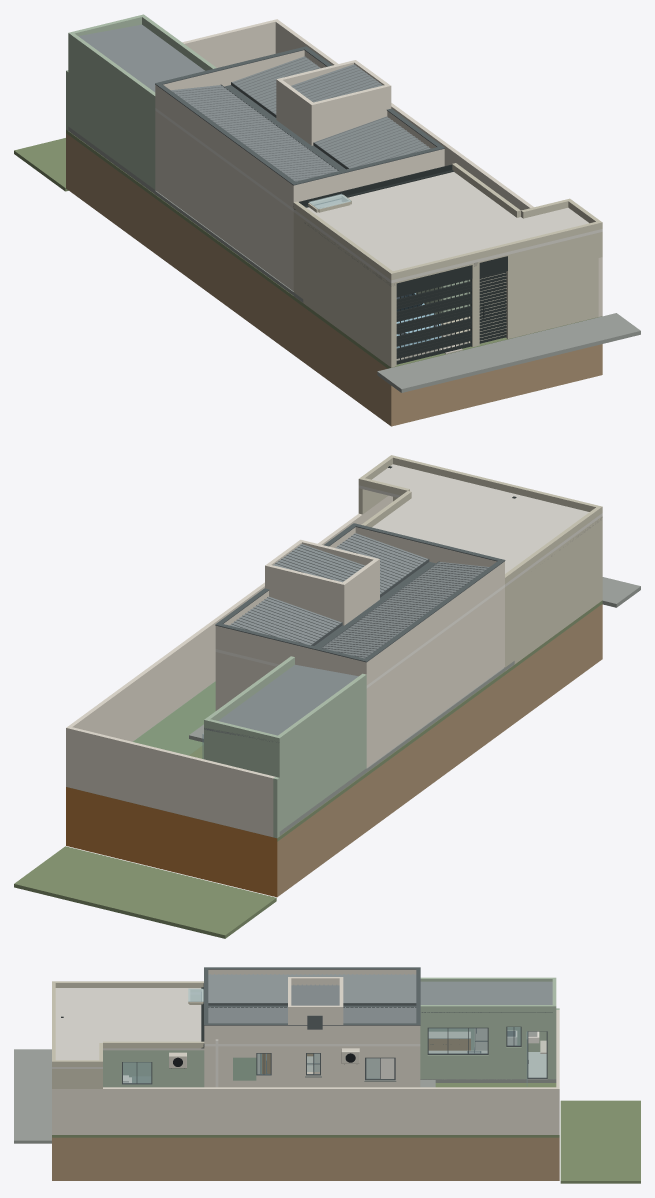
File: casa-bp-banheiro-suite-g06.glb
The picture shows the model from 3 angles, top to bottom: view 1: azimuth 30°, elevation 25°; view 2: azimuth 150°, elevation 25°; view 3: azimuth 270°, elevation 25°; orthographic projection. The views are drawn at different scales.
Visible parts, largest first — view 1: Solo em corte esquemático — perfil lateral não levantado, G03 — laje contínua até a entrada existente (×3), Parede cega / divisa do desenho, G03 — fechamento frontal após porta social, Garagem — fechamento lateral proposto; apoios independentes , Fundos — fechamento esquerdo proposto, Passeio público — contexto ilustrativo, Volume elevado caixa d’água (×2), Platibanda frente / fundo (×2), Pano 1 — social, Fundos — cobertura independente ilustrativa, G03 — platibanda do conjunto frontal (×3) (+18 smaller); view 2: Solo em corte esquemático — perfil lateral não levantado, Face indicativa de contenção — 2 m estimados; seção e fundaç, Muro fundos — 2,00 m sobre terreno, G03 — laje contínua até a entrada existente (×3), Referência do nível do vizinho — extensão apenas ilustrativa, Parede cega / divisa do desenho, Muro lateral direito do desenho — 2,00 m, Garagem — fechamento lateral proposto; apoios independentes , Fundos — fechamento esquerdo proposto, Fundos — cobertura independente ilustrativa, Platibanda frente / fundo (×2), Volume elevado caixa d’água (×2) (+18 smaller); view 3: Muro lateral direito do desenho — 2,00 m, Solo em corte esquemático — perfil lateral não levantado, G03 — laje contínua até a entrada existente (×3), Referência do nível do vizinho — extensão apenas ilustrativa, Lateral existente — só janela do quarto reorganizada em A (×5), Platibanda lateral (×2), Pano 1 — social, Passeio público — contexto ilustrativo, Fundos — fechamento direito da cozinha (×4), Fundos — cobertura independente ilustrativa, Suíte ampliada — lateral para o corredor (×3), G03 — platibanda do conjunto frontal (×4) (+20 smaller).
Boxes of the visible parts, x1,y1,x2,y2 form: Solo em corte esquemático — perfil lateral não levantado: (66,133,602,426); G03 — laje contínua até a entrada existente (×3): (302,172,602,283); Parede cega / divisa do desenho: (155,111,293,290); G03 — fechamento frontal após porta social: (506,233,598,338); Garagem — fechamento lateral proposto; apoios independentes : (304,220,395,367); Fundos — fechamento esquerdo proposto: (68,47,155,189); Passeio público — contexto ilustrativo: (377,313,640,392); Volume elevado caixa d’água (×2): (276,78,387,145); Platibanda frente / fundo (×2): (163,50,440,201); Pano 1 — social: (171,85,337,181); Fundos — cobertura independente ilustrativa: (78,24,204,92); G03 — platibanda do conjunto frontal (×3): (293,163,602,280); Solo em corte esquemático — perfil lateral não levantado: (277,604,602,896); Face indicativa de contenção — 2 m estimados; seção e fundaç: (66,787,277,897); Muro fundos — 2,00 m sobre terreno: (70,727,275,837); G03 — laje contínua até a entrada existente (×3): (358,464,602,580); Referência do nível do vizinho — extensão apenas ilustrativa: (14,846,276,938); Parede cega / divisa do desenho: (366,587,504,767); Muro lateral direito do desenho — 2,00 m: (66,495,392,787); Garagem — fechamento lateral proposto; apoios independentes : (515,516,602,663); Fundos — fechamento esquerdo proposto: (275,689,366,831); Fundos — cobertura independente ilustrativa: (204,664,358,742); Platibanda frente / fundo (×2): (219,527,496,676); Volume elevado caixa d’água (×2): (269,558,379,625); Muro lateral direito do desenho — 2,00 m: (52,1087,559,1134); Solo em corte esquemático — perfil lateral não levantado: (52,1137,559,1180); G03 — laje contínua até a entrada existente (×3): (52,988,204,1068); Referência do nível do vizinho — extensão apenas ilustrativa: (560,1100,640,1183); Lateral existente — só janela do quarto reorganizada em A (×5): (204,1046,420,1087); Platibanda lateral (×2): (204,969,420,1043); Pano 1 — social: (208,974,416,1002); Passeio público — contexto ilustrativo: (14,1049,51,1143); Fundos — fechamento direito da cozinha (×4): (420,1017,496,1079); Fundos — cobertura independente ilustrativa: (420,981,552,1004); Suíte ampliada — lateral para o corredor (×3): (103,1050,204,1087); G03 — platibanda do conjunto frontal (×4): (52,981,204,1066).
Bounding box in the file's own units: 8.5 × 6.68 × 24.7.
